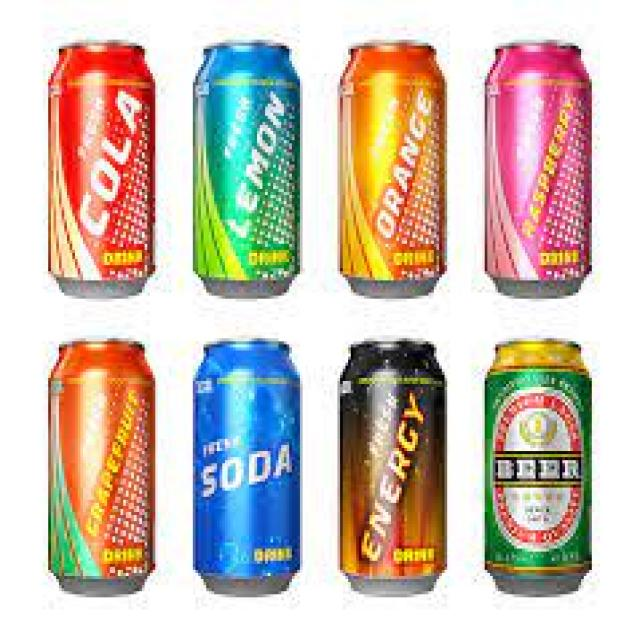Cans: (469, 329, 613, 607), (477, 33, 608, 314), (327, 332, 458, 600), (184, 33, 310, 308), (185, 330, 313, 600), (40, 336, 166, 606), (330, 28, 456, 298), (40, 30, 161, 298)
